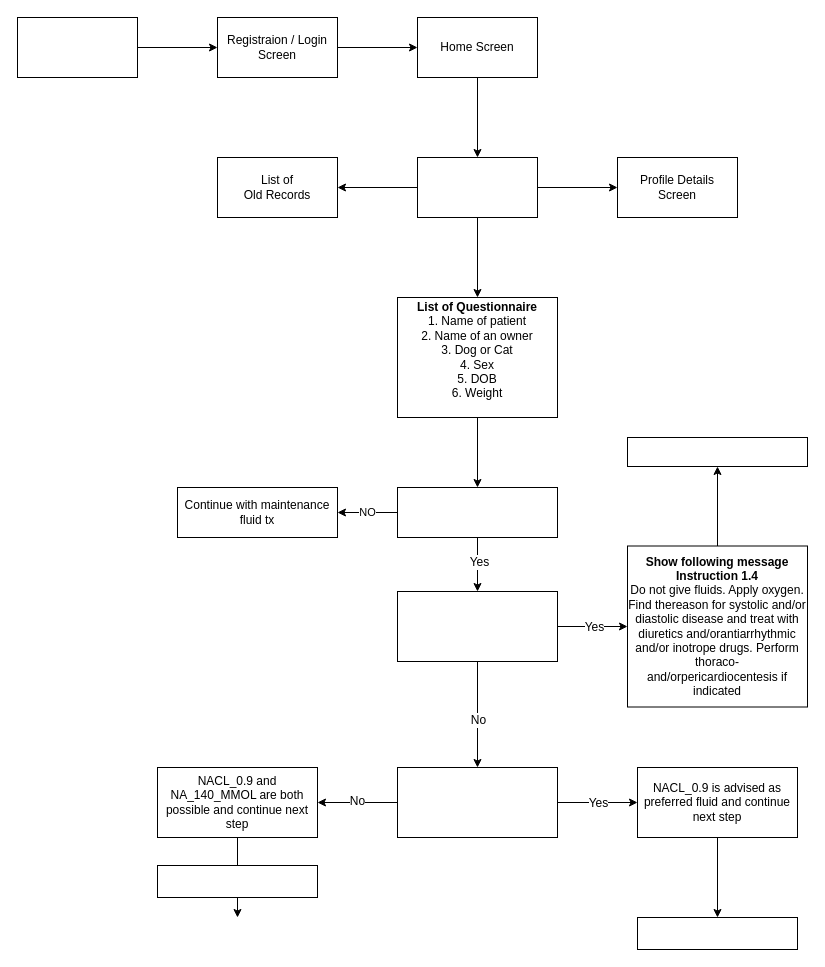
The diagram is 825 pixels wide and 967 high, and some of its shapes have lost their labels. Each missing label, with the centre of its shape:
"Is the animal in shock?" belongs at [477,512].
"Is the pet in? Or Suspected of cardiogenic shock" belongs at [477,626].
"Profile Icon Add New Button Old Records Button" belongs at [477,187].
"Splash Screen" belongs at [77,47].
"Suspicion / Hyperkalaemia / Hypercalcemia / Gastric dilatation ?" belongs at [477,802].
